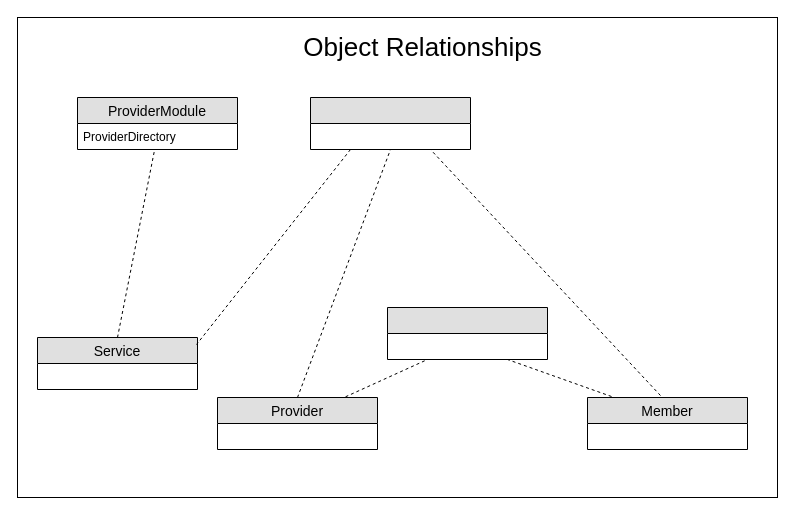
The diagram is 795 pixels wide and 515 high, and some of its shapes have lost their labels. Here are the shapes that lost their labels. From the top down, the centre of each, then its label:
(390,123): ManagerModule
(467,333): InteractiveModule
